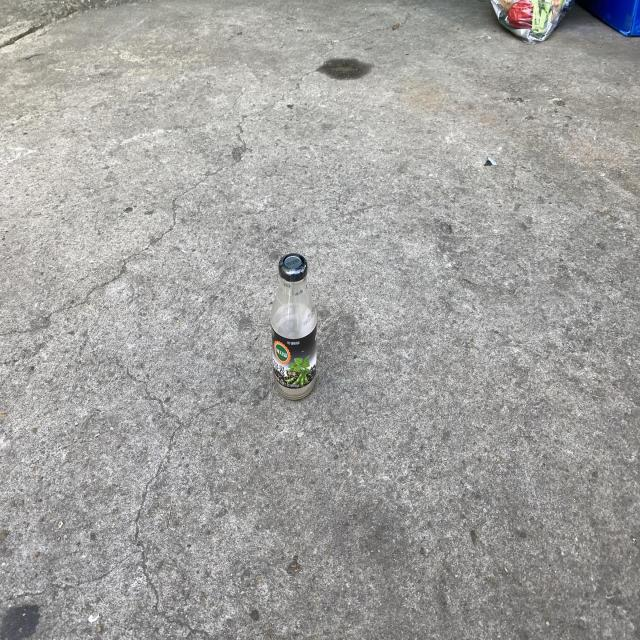glass: (271, 253, 317, 400)
